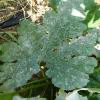Squash Powdery mildew leaf: (1, 0, 98, 94)
